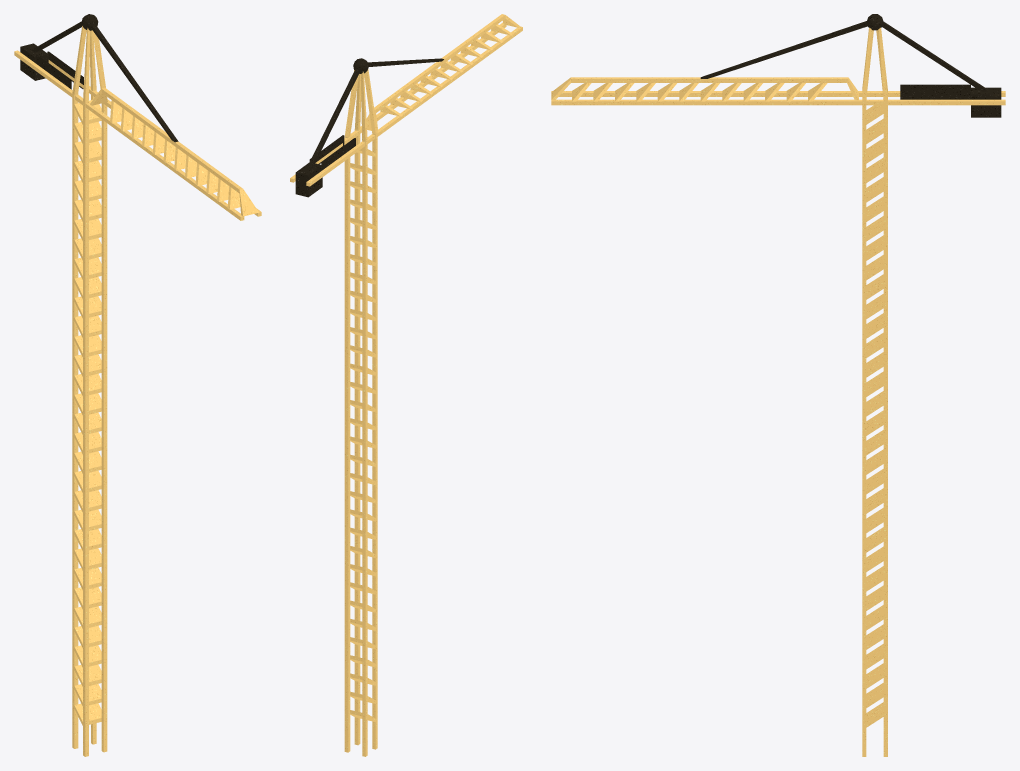
Rendered from crane.glb.
The picture shows the model from 3 angles, left to right: view 1: azimuth 30°, elevation 25°; view 2: azimuth 150°, elevation 25°; view 3: azimuth 270°, elevation 25°; orthographic projection. The views are drawn at different scales.
Visible parts, largest first — view 1: Cube.014; view 2: Cube.014; view 3: Cube.014.
Part boxes in pixels (bbox=[...]): Cube.014: bbox=[14, 14, 261, 756]; Cube.014: bbox=[290, 14, 522, 756]; Cube.014: bbox=[551, 14, 1005, 756].
Size of the model in its own units: 3.6 by 114 by 63.54.
1 material, 1 textured.
